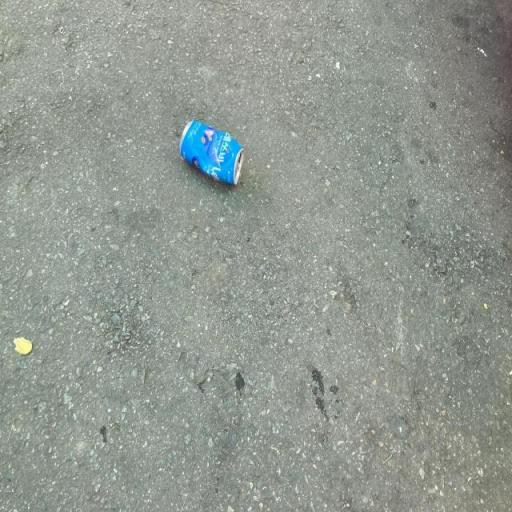metal: (166, 107, 258, 206)
